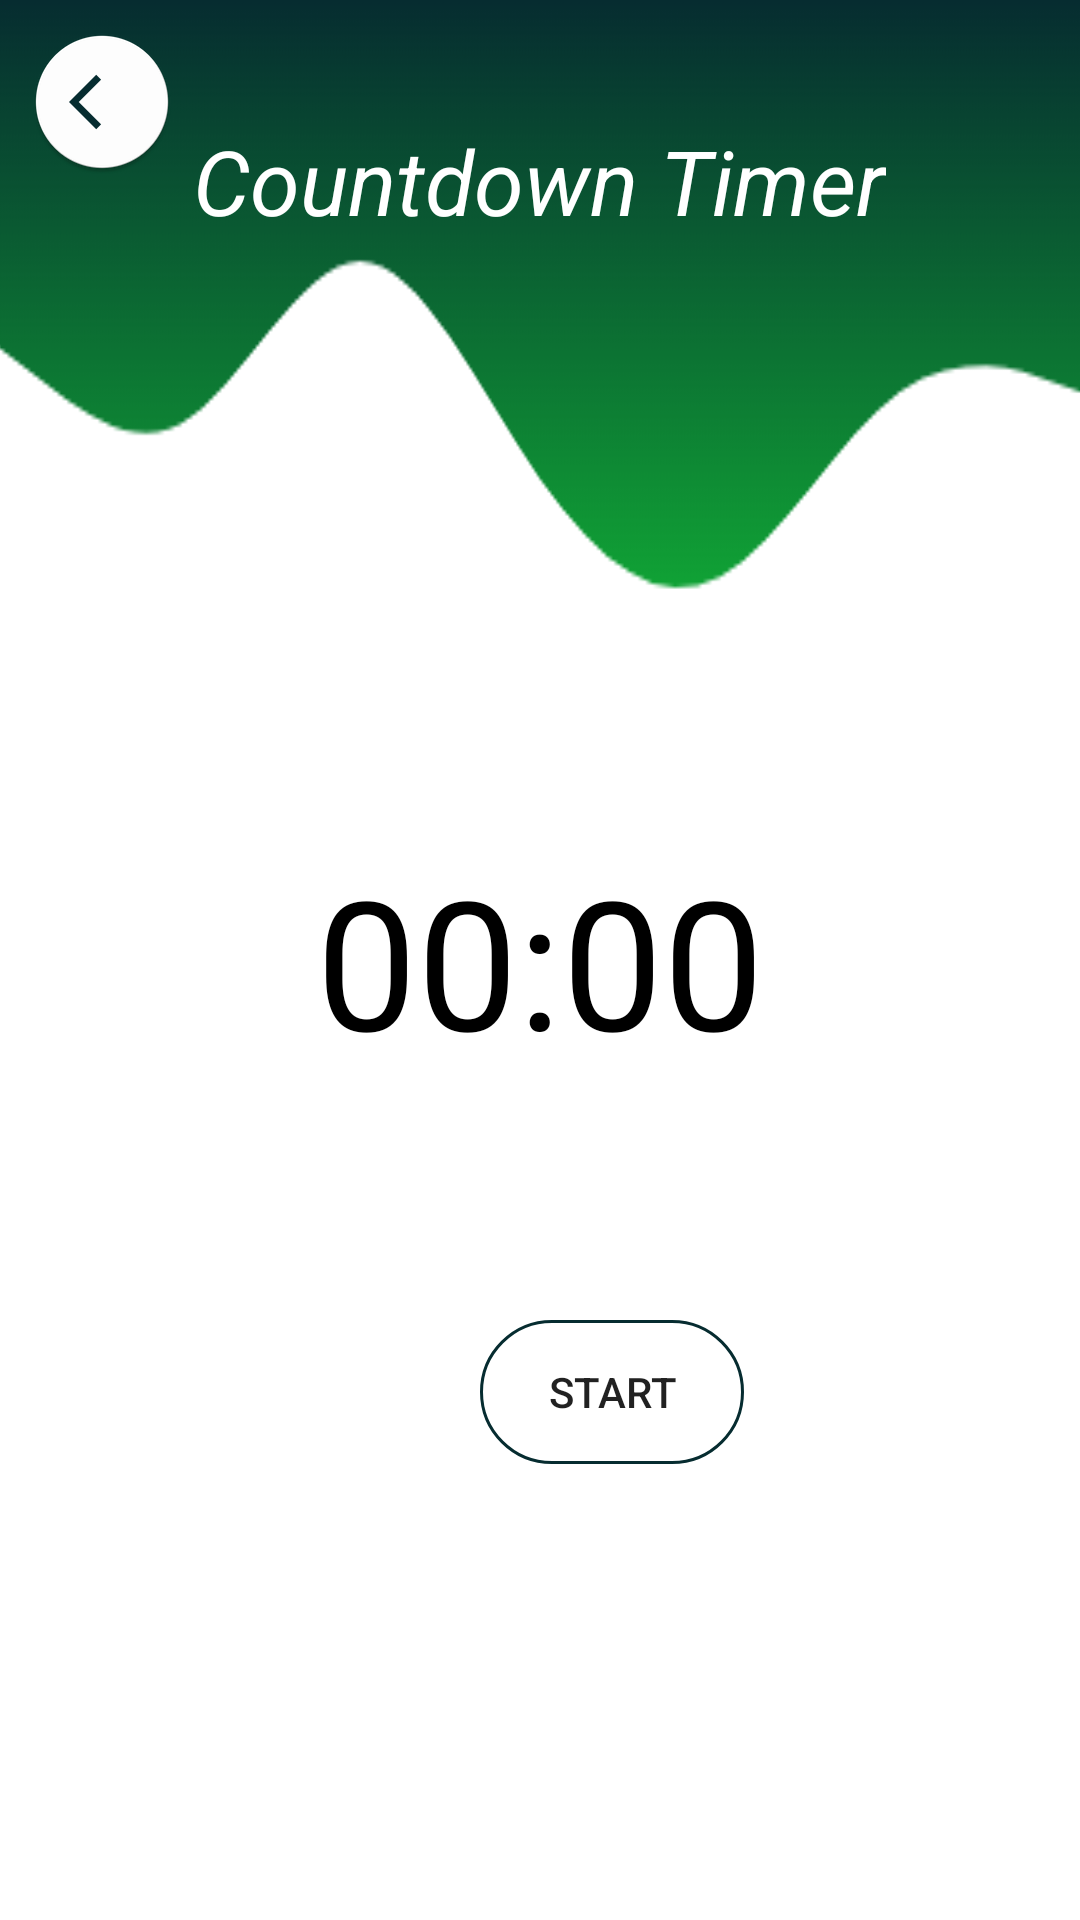

Icon click points for this 1080px×1920px phone screenshot, format point (x, y):
back: point (102, 101)
